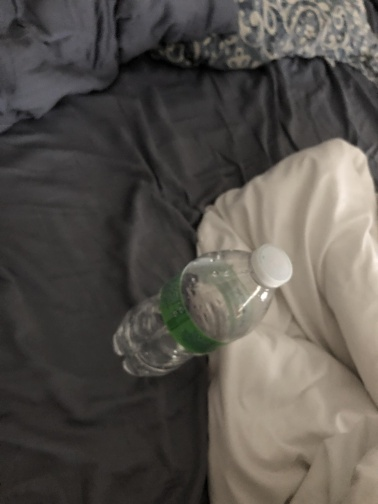bottle: (108, 243, 296, 381)
